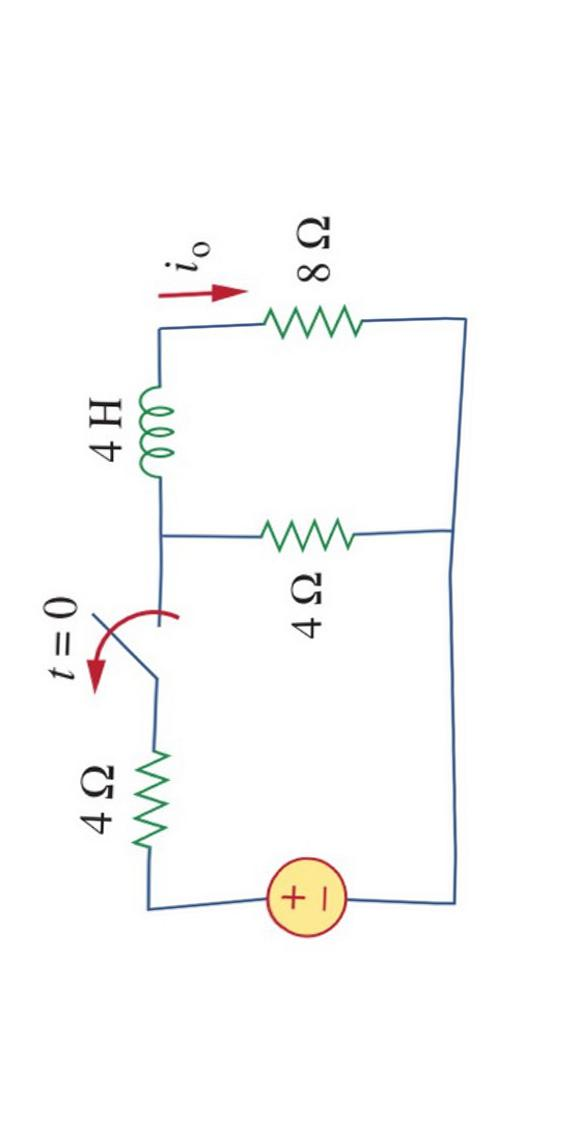Battery: (230, 833, 379, 969)
